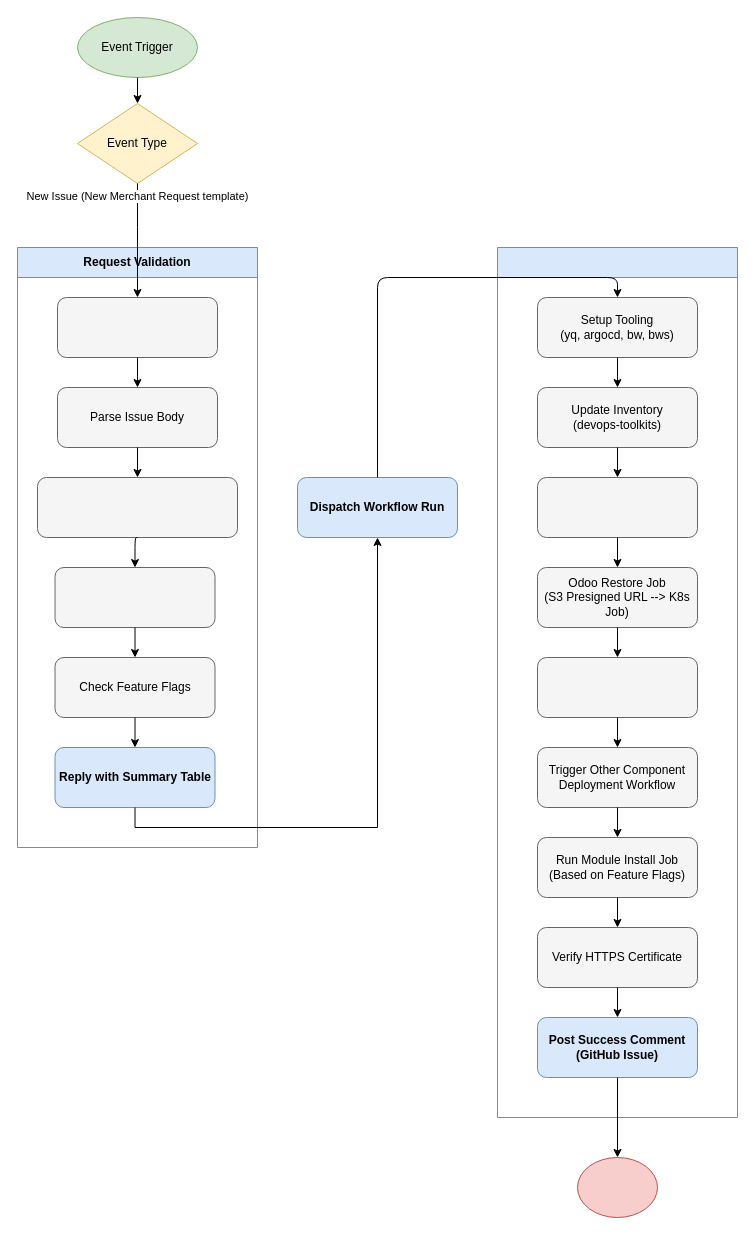
Some shapes in this 755 by 1235 pixel diagram are drawn without their labels. The shapes that lost their labels are listed below. From the top down, each one's box as (x1, y1, x2, y2) in pixels, then its label:
(56, 296, 218, 358): Generate Bot Token
(36, 476, 238, 538): Extract Merchant Name & Domain
(536, 476, 698, 538): Update GitOps AppSets (gitops-infra-stack)
(54, 566, 215, 628): Determine Group
(496, 246, 738, 1118): Add New Merchant
(536, 656, 698, 718): Update Core Values & Sync (ArgoCD Sync)
(576, 1156, 658, 1218): End
